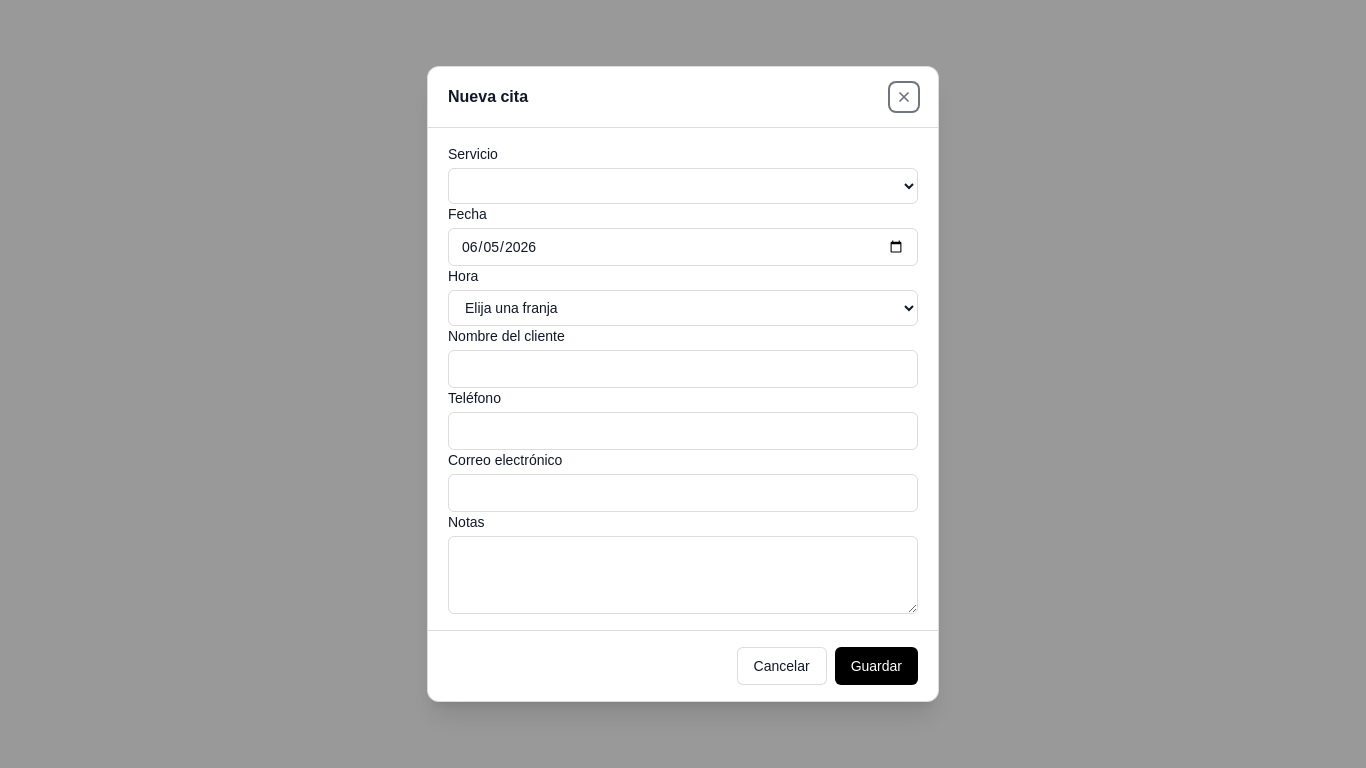
Test case: NewAppointmentModal › requires a chosen time before submitting
Expected: the number of dropdowns is 2, [448,168,918,204]; [448,290,918,326]
Click the button "Guardar": (876, 666) [835,647,918,685]
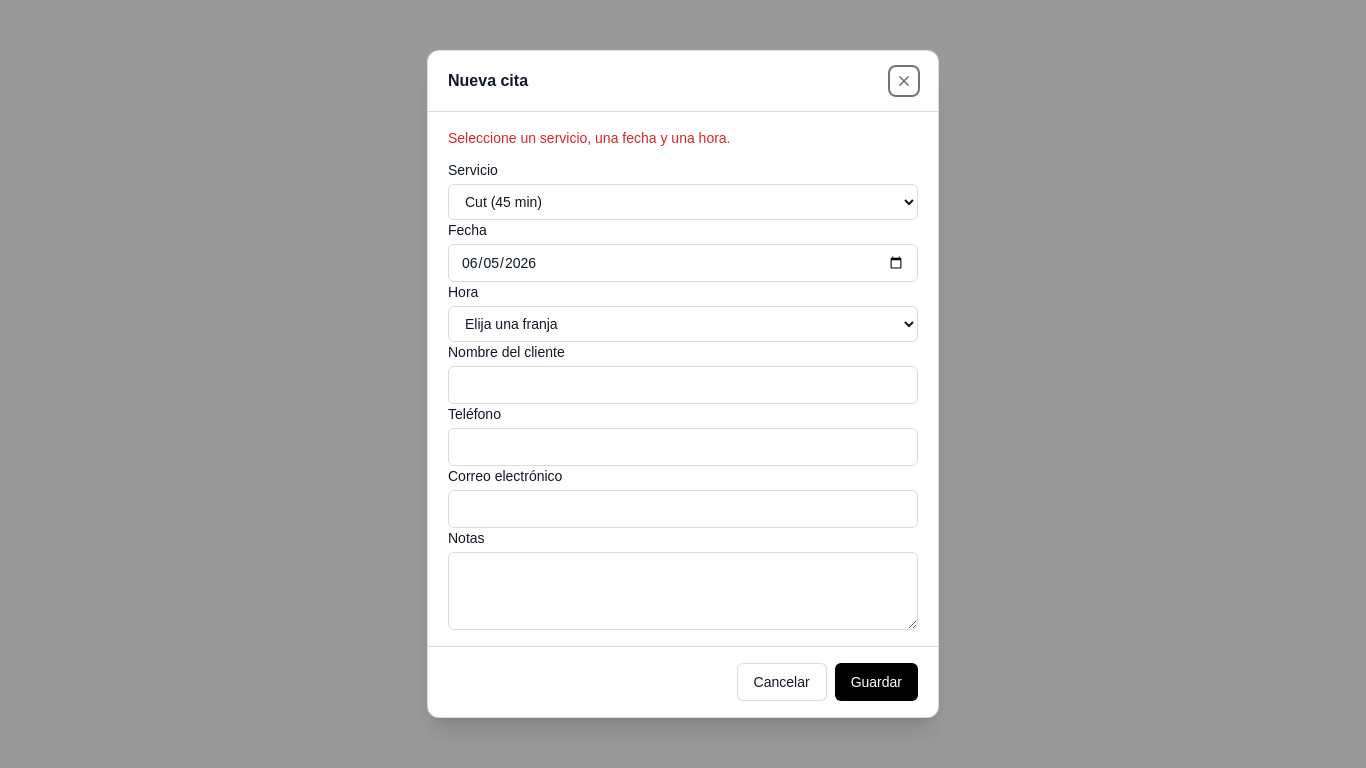
Now the text "Seleccione un servicio, una fecha y una hora." is shown, box [448,130,730,146]
